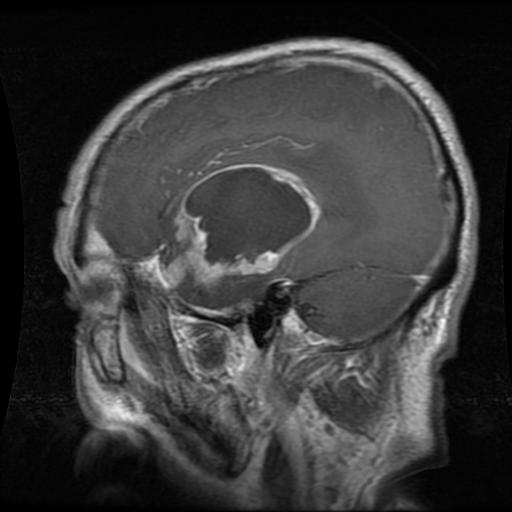Gliomia_tumour: (163, 160, 323, 287)
